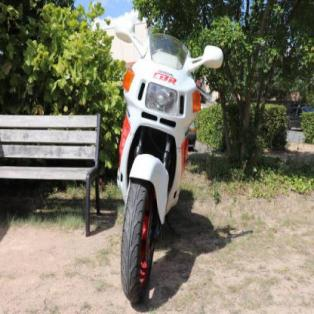Motocicleta: (104, 12, 224, 314)
